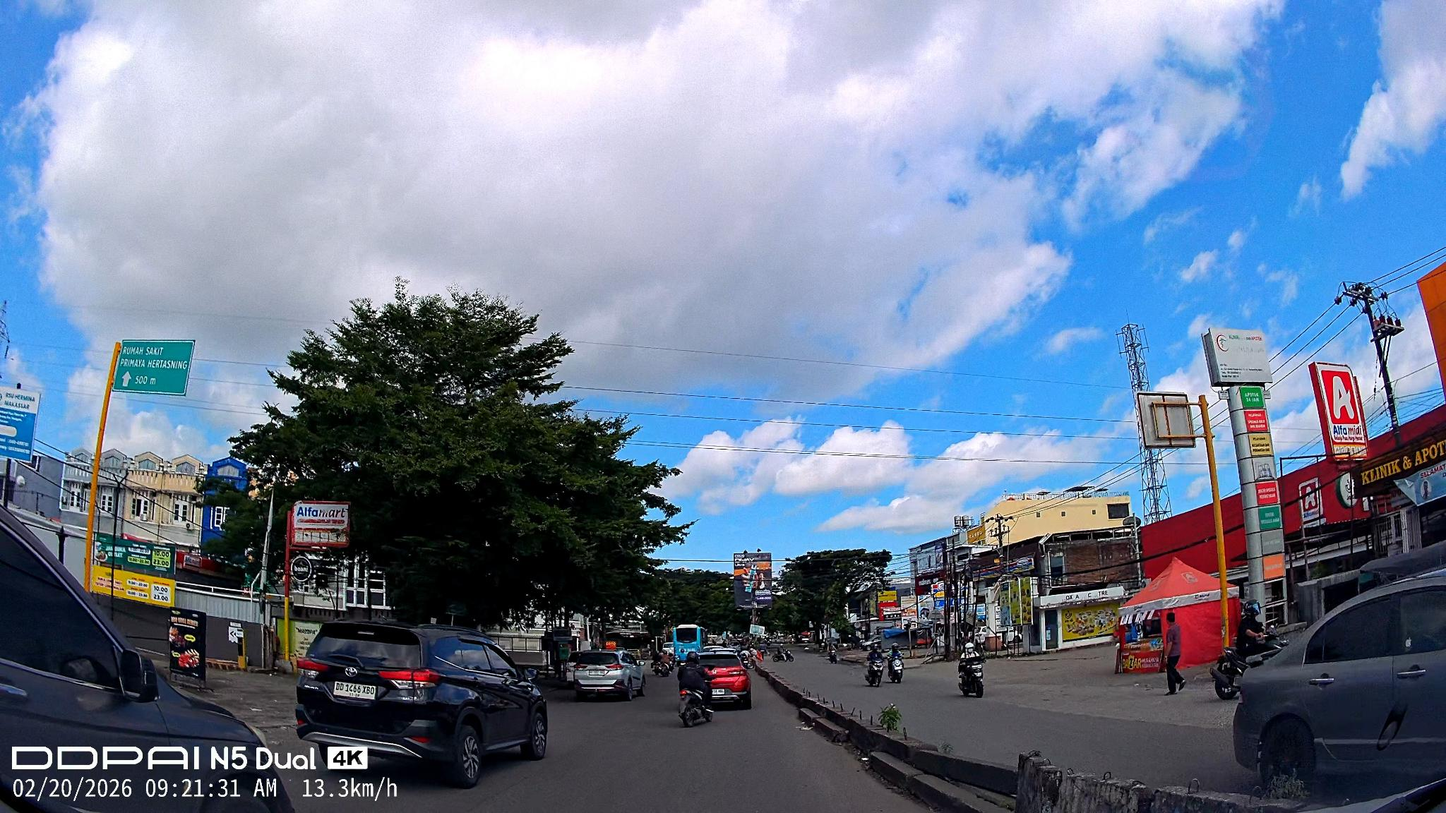rambu_teks: (112, 339, 196, 396)
